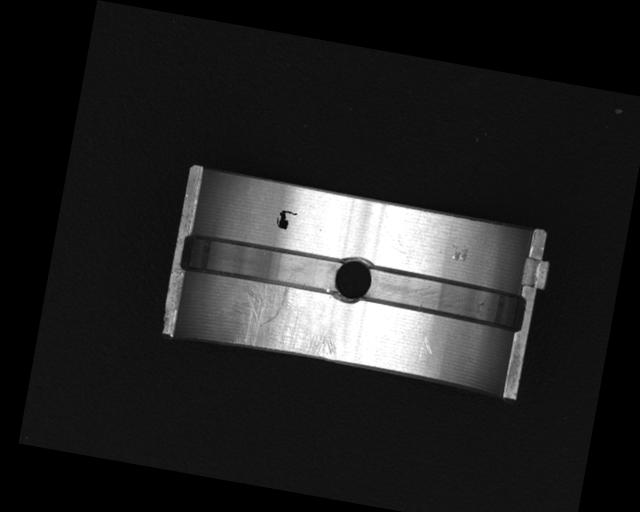blot: (274, 208, 297, 231)
bruise: (452, 245, 470, 262)
gap: (362, 266, 528, 331), (181, 232, 346, 297)
hole: (328, 253, 373, 307)
nick: (412, 312, 437, 355)
scratch: (228, 279, 343, 359)
